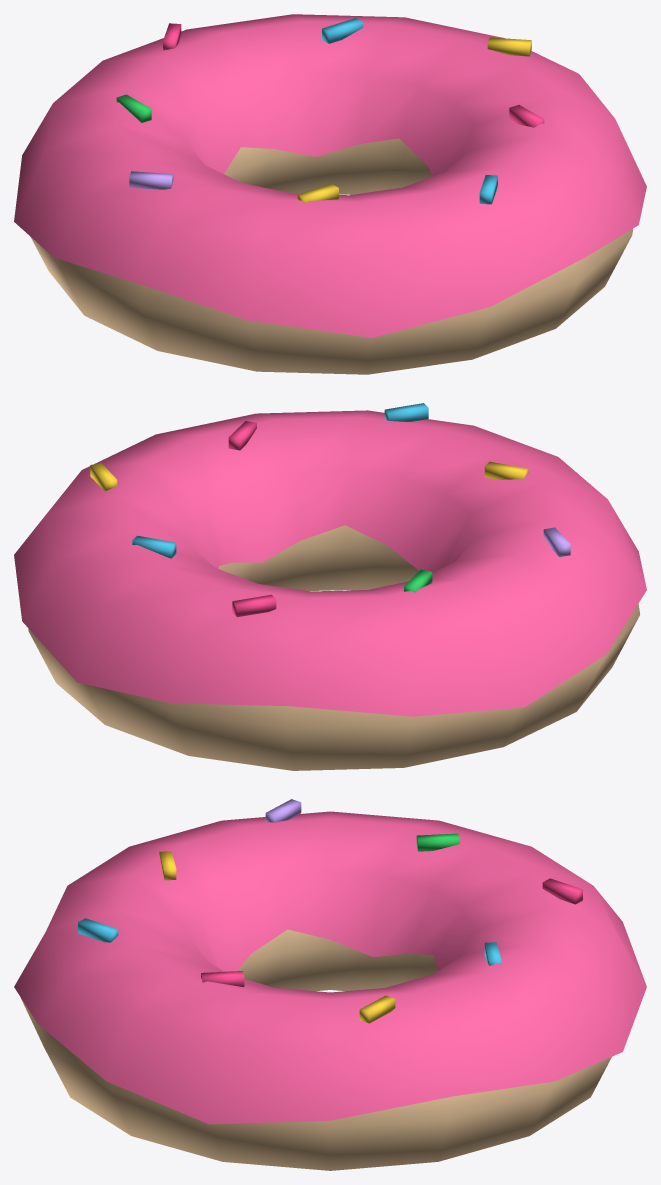
File: w1_07_donut.glb
3 views of the same model, one above another, from view 1: azimuth 30°, elevation 25°; view 2: azimuth 150°, elevation 25°; view 3: azimuth 270°, elevation 25° (orthographic).
Parts seen in each view (by area): view 1: W1_07_Donut; view 2: W1_07_Donut; view 3: W1_07_Donut.
Part boxes in pixels (x1=…): W1_07_Donut: x1=14, y1=14, x2=646, y2=374; W1_07_Donut: x1=14, y1=403, x2=646, y2=770; W1_07_Donut: x1=14, y1=799, x2=646, y2=1170.
Size of the model in its own units: 1.66 by 0.486 by 1.66.
1 material, 1 textured.
